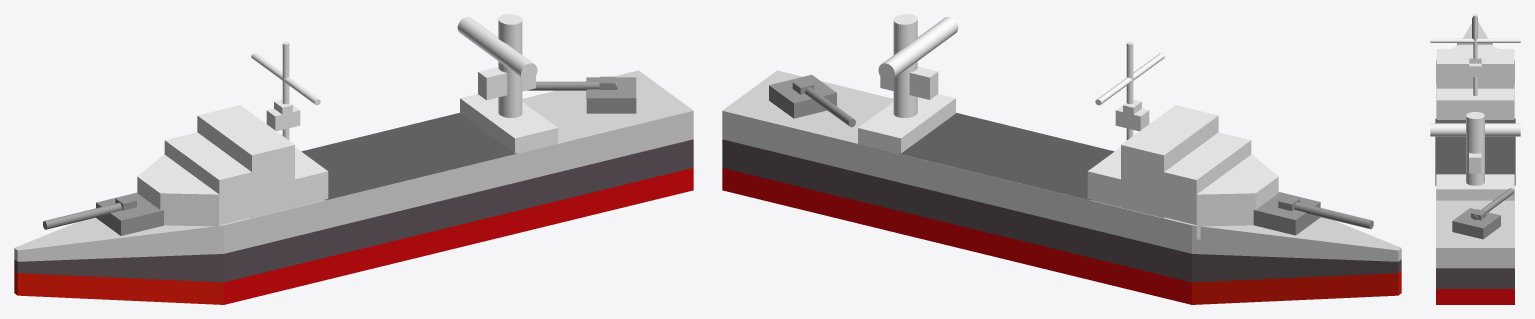
File: contratorpedeiro.glb
3 renders of one model, left to right at view 1: azimuth 30°, elevation 25°; view 2: azimuth 150°, elevation 25°; view 3: azimuth 270°, elevation 25°, orthographic. The views are drawn at different scales.
Parts seen in each view (by area): view 1: Object_4, Object_9, Object_7, Object_27, Object_15, Object_6, Object_13, Object_11, Object_31, Object_29, Object_35, Object_37 (+5 smaller); view 2: Object_4, Object_9, Object_7, Object_27, Object_15, Object_6, Object_13, Object_11, Object_31, Object_29, Object_35, Object_37 (+5 smaller); view 3: Object_4, Object_15, Object_27, Object_17, Object_31, Object_29, Object_9, Object_37, Object_7, Object_25, Object_19, Object_33 (+4 smaller).
Part boxes in pixels (x1,y1,x2,y2): Object_4: [14, 70, 693, 261]; Object_9: [14, 139, 693, 282]; Object_7: [224, 168, 693, 304]; Object_27: [301, 113, 516, 200]; Object_15: [197, 105, 294, 217]; Object_6: [14, 271, 223, 304]; Object_13: [164, 132, 262, 224]; Object_11: [137, 154, 219, 239]; Object_31: [457, 14, 537, 117]; Object_29: [460, 94, 557, 153]; Object_35: [43, 192, 163, 235]; Object_37: [527, 76, 636, 113]; Object_4: [722, 70, 1401, 261]; Object_9: [722, 139, 1401, 282]; Object_7: [722, 168, 1191, 304]; Object_27: [899, 113, 1114, 200]; Object_15: [1121, 105, 1218, 217]; Object_6: [1192, 271, 1401, 304]; Object_13: [1153, 132, 1251, 224]; Object_11: [1196, 154, 1278, 239]; Object_31: [878, 14, 958, 117]; Object_29: [858, 94, 955, 153]; Object_35: [1253, 192, 1373, 235]; Object_37: [769, 74, 855, 127]; Object_4: [1436, 21, 1514, 268]; Object_15: [1436, 49, 1514, 88]; Object_27: [1435, 118, 1515, 185]; Object_17: [1436, 88, 1514, 119]; Object_31: [1430, 112, 1520, 185]; Object_29: [1436, 174, 1514, 200]; Object_9: [1436, 268, 1514, 288]; Object_37: [1452, 188, 1513, 239]; Object_7: [1436, 289, 1514, 304]; Object_25: [1430, 38, 1520, 42]; Object_19: [1473, 14, 1477, 95]; Object_33: [1469, 153, 1481, 173].
Bounding box in the file's own units: 106 × 34.23 × 17.88.
